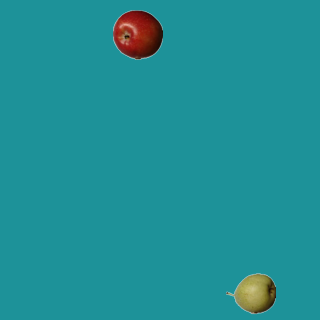Apple Braeburn: (112, 9, 162, 59)
Pear: (225, 268, 275, 318)
